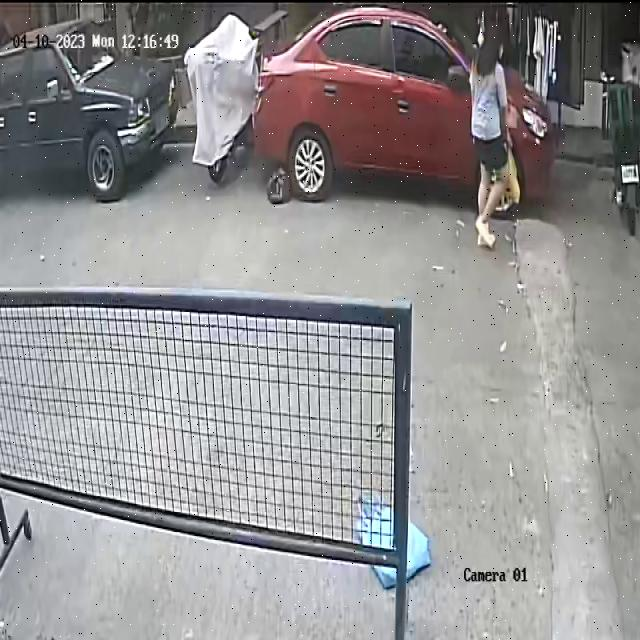human: (470, 20, 520, 250)
